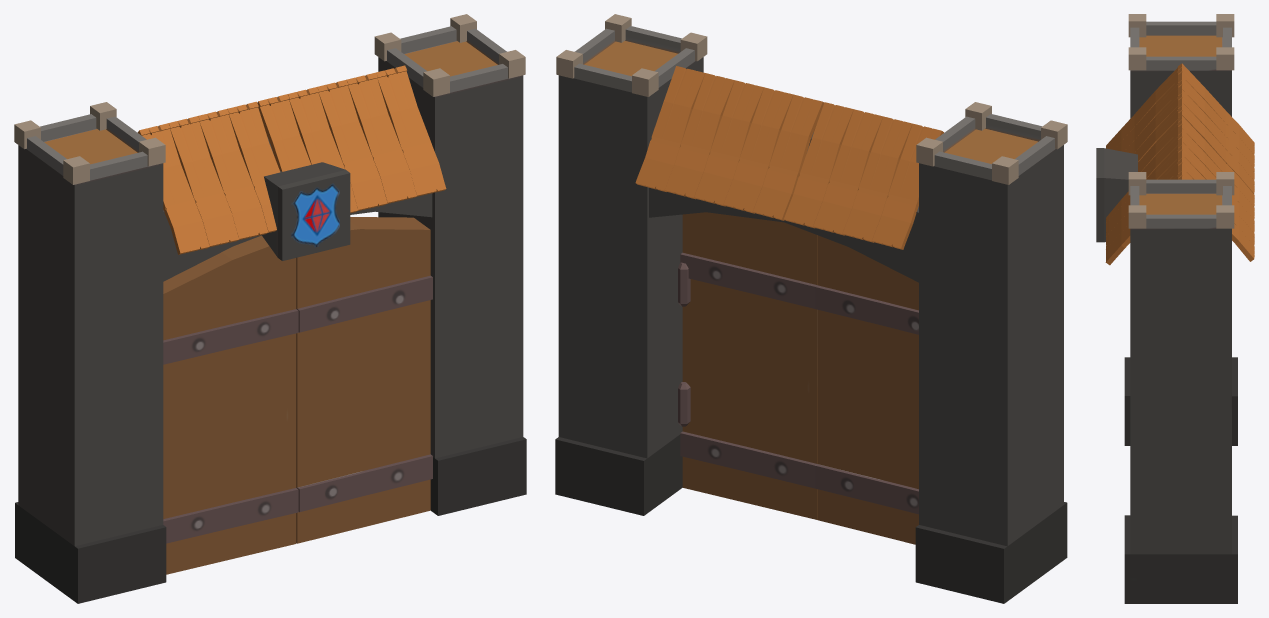
File: cityDoor.fbx
3 renders of one model, left to right at view 1: azimuth 30°, elevation 25°; view 2: azimuth 150°, elevation 25°; view 3: azimuth 270°, elevation 25°, orthographic. The views are drawn at different scales.
Visible parts, largest first — view 1: DoorCity, Door2, Door1; view 2: DoorCity, Door1, Door2; view 3: DoorCity.
Part boxes in pixels (x1,y1,x2,y2): DoorCity: (14,14,526,603); Door2: (163,235,298,574); Door1: (296,217,432,543); DoorCity: (555,14,1067,603); Door1: (680,212,817,519); Door2: (815,235,918,544); DoorCity: (1096,14,1254,603).
Size of the model in its own units: 1299 by 1194 by 438.
